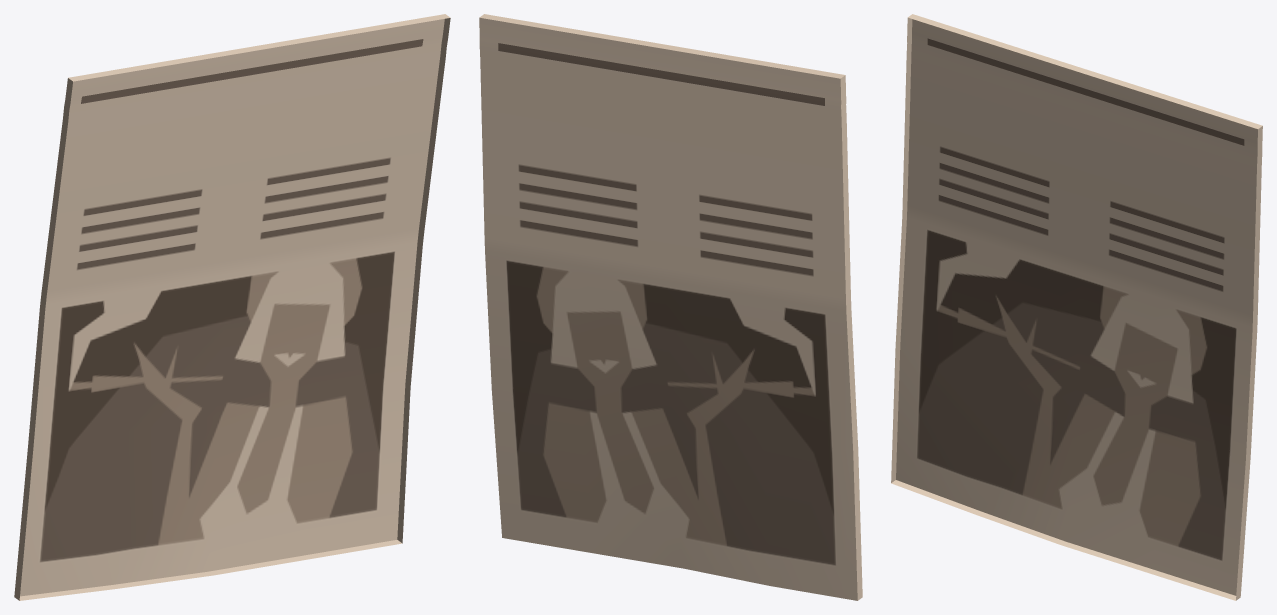
The model's file is valikko_tekijat.fbx.
The picture shows the model from 3 angles, left to right: view 1: azimuth 30°, elevation 25°; view 2: azimuth 150°, elevation 25°; view 3: azimuth 330°, elevation 25°; orthographic projection. The views are drawn at different scales.
Visible parts, largest first — view 1: valikko_tekijat; view 2: valikko_tekijat; view 3: valikko_tekijat.
Boxes of the visible parts, left/top/right/bottom form: valikko_tekijat: left=14, top=14, right=450, bottom=600; valikko_tekijat: left=479, top=14, right=862, bottom=600; valikko_tekijat: left=891, top=14, right=1262, bottom=600.
Bounding box in the file's own units: 29.8 × 38.18 × 2.89.
